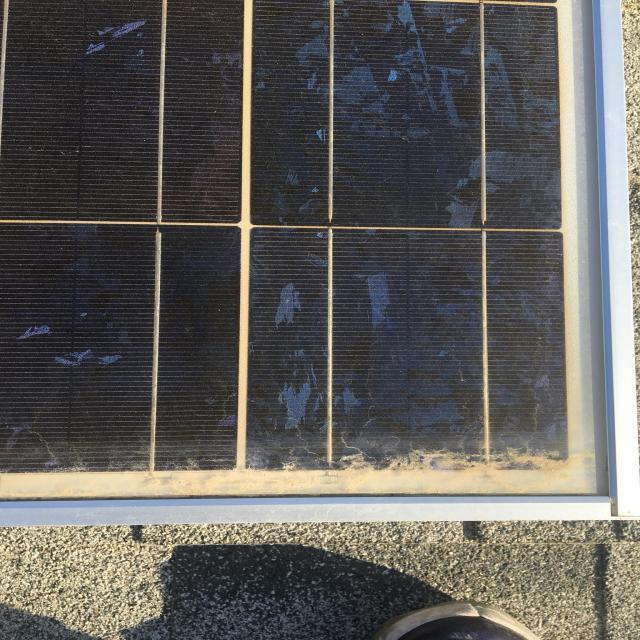faulty: (21, 0, 562, 463)
